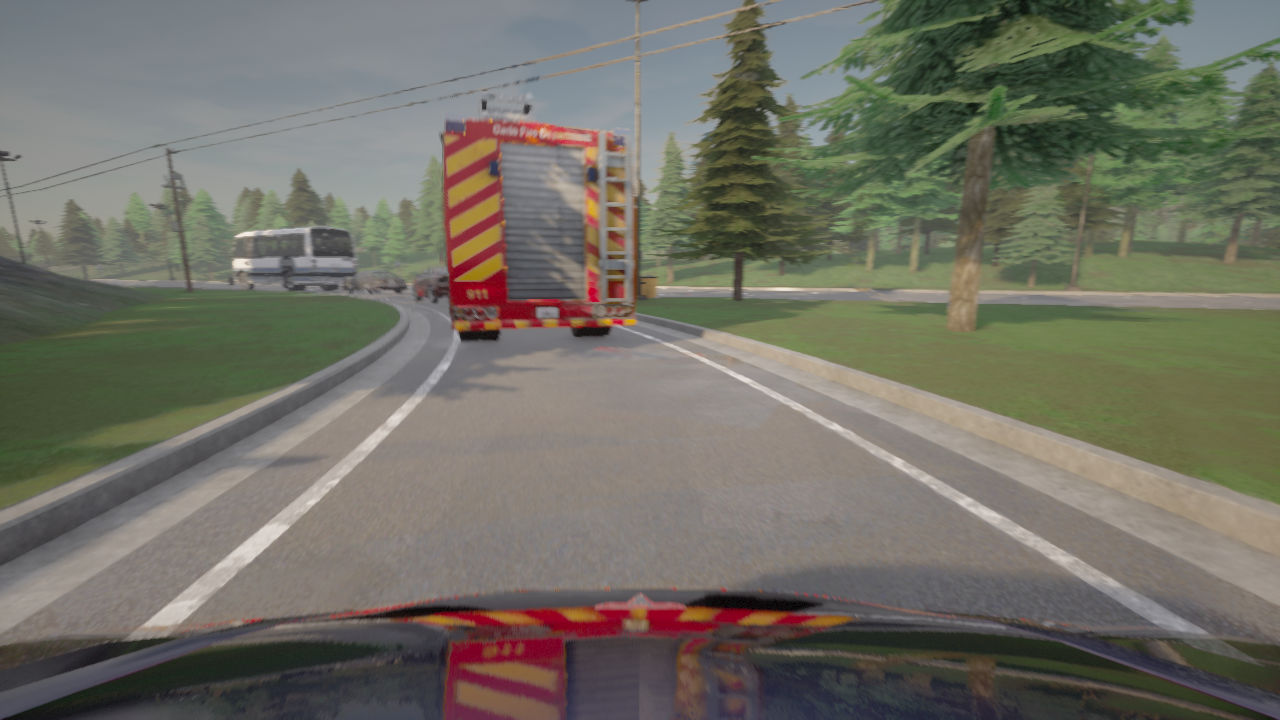cyclist: (0, 588, 1279, 719), (439, 89, 635, 341), (224, 226, 357, 291), (342, 270, 406, 295), (412, 266, 448, 303), (228, 274, 264, 285)
